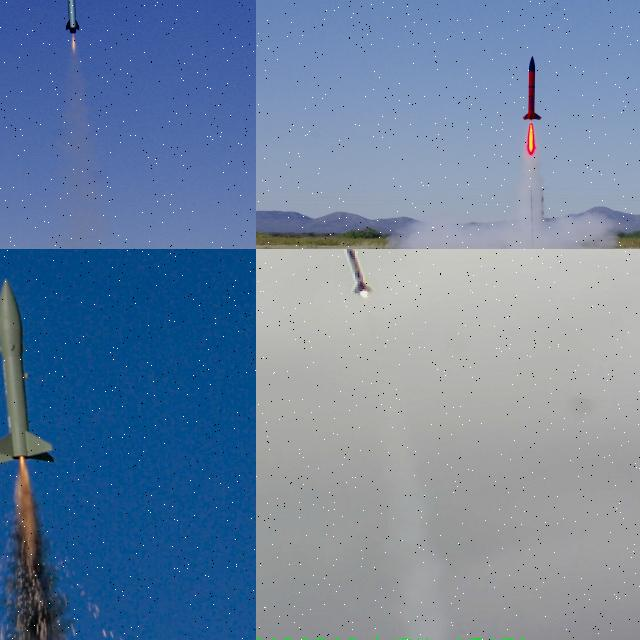Rocket: (0, 277, 58, 467), (340, 249, 374, 295), (522, 55, 542, 121), (62, 0, 82, 34)
